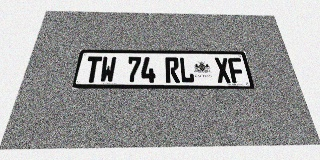4: (141, 57, 155, 83)
7: (126, 57, 141, 83)
F: (227, 58, 246, 83)
L: (179, 57, 195, 83)
R: (165, 57, 180, 83)
T: (84, 56, 102, 83)
W: (99, 56, 117, 83)
X: (214, 57, 232, 83)
